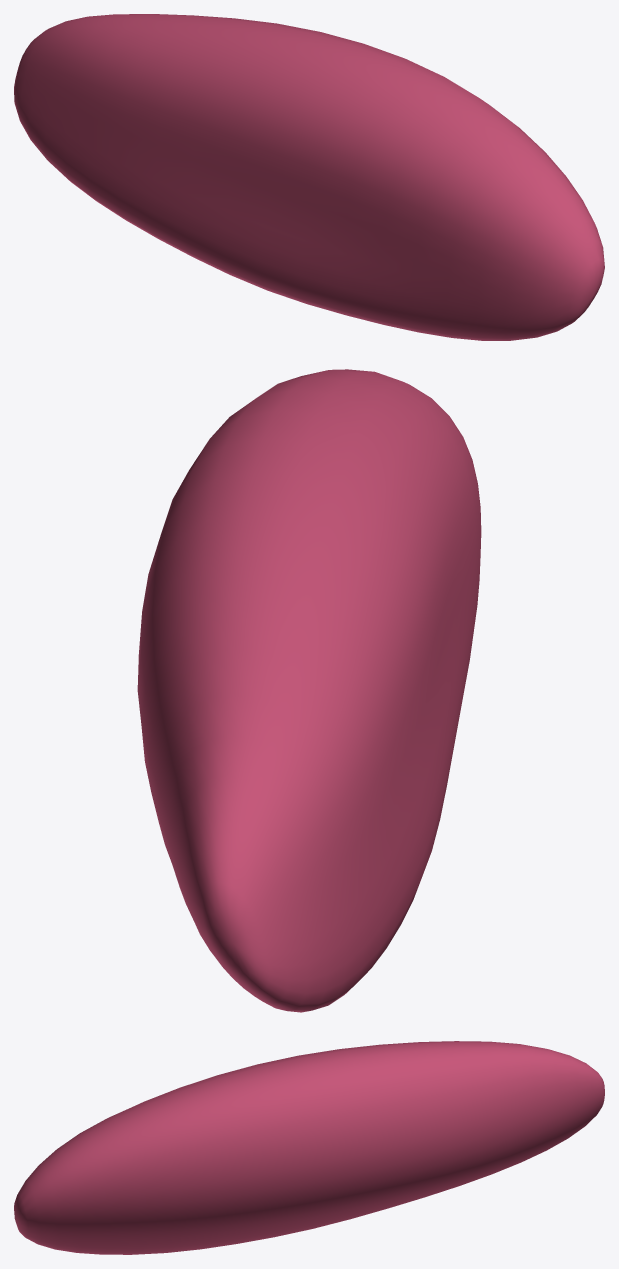
3 views of the same model, one above another, from view 1: azimuth 30°, elevation 25°; view 2: azimuth 150°, elevation 25°; view 3: azimuth 270°, elevation 25° (orthographic). The views are drawn at different scales.
Parts seen in each view (by area): view 1: 右侧大圆肌腱下囊; view 2: 右侧大圆肌腱下囊; view 3: 右侧大圆肌腱下囊.
Part boxes in pixels (<box>): 右侧大圆肌腱下囊: <box>14,14,604,340</box>; 右侧大圆肌腱下囊: <box>137,369,481,1012</box>; 右侧大圆肌腱下囊: <box>14,1041,604,1254</box>.
Bounding box in the file's own units: 0.018 × 0.014 × 0.0385.
